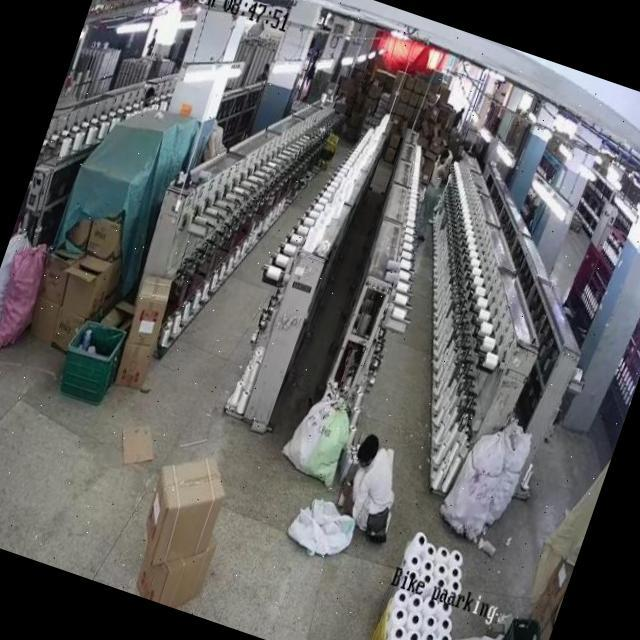person: (341, 426, 418, 533), (408, 136, 462, 246)
